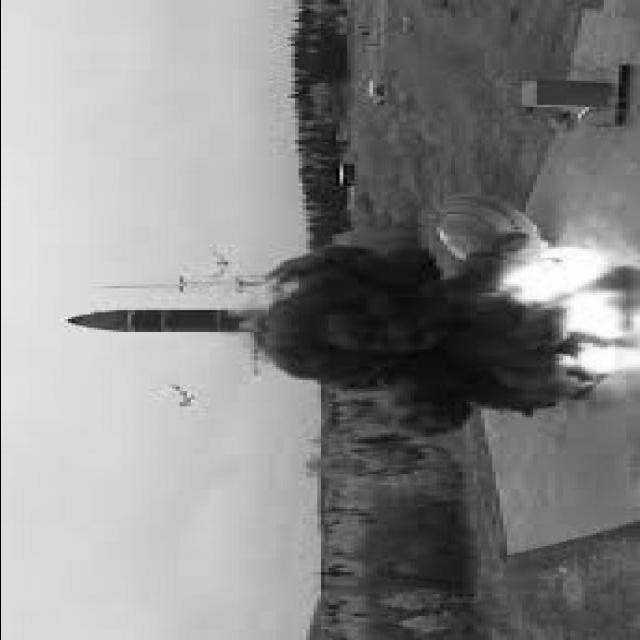missile: (50, 303, 271, 345)
